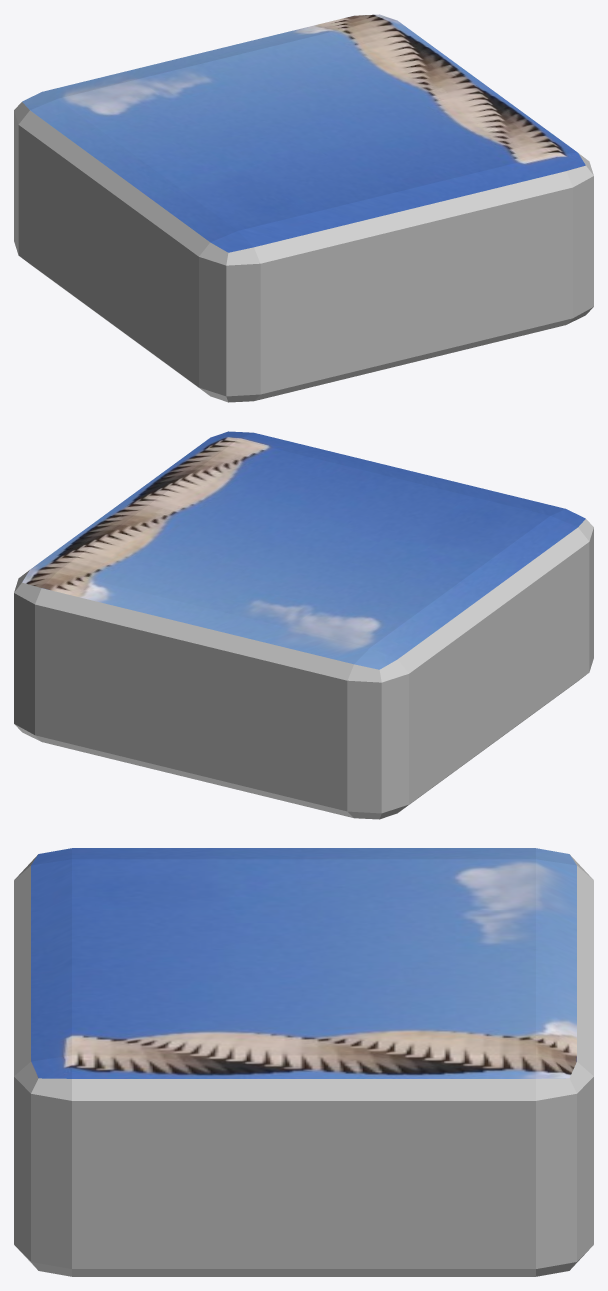
The model's file is peça11.obj.
The picture shows the model from 3 angles, top to bottom: view 1: azimuth 30°, elevation 25°; view 2: azimuth 150°, elevation 25°; view 3: azimuth 270°, elevation 25°; orthographic projection. The views are drawn at different scales.
Parts seen in each view (by area): view 1: Cubo.006; view 2: Cubo.006; view 3: Cubo.006.
Boxes of the visible parts, x1=… form: Cubo.006: x1=14, y1=14, x2=593, y2=402; Cubo.006: x1=14, y1=431, x2=593, y2=819; Cubo.006: x1=14, y1=848, x2=593, y2=1276.
Bounding box in the file's own units: 0.5 × 0.2 × 0.5.
